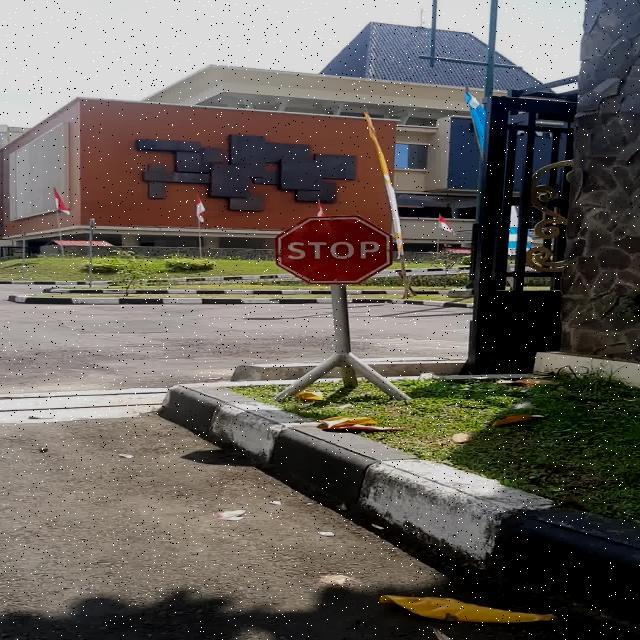Berhenti: (276, 216, 392, 284)
